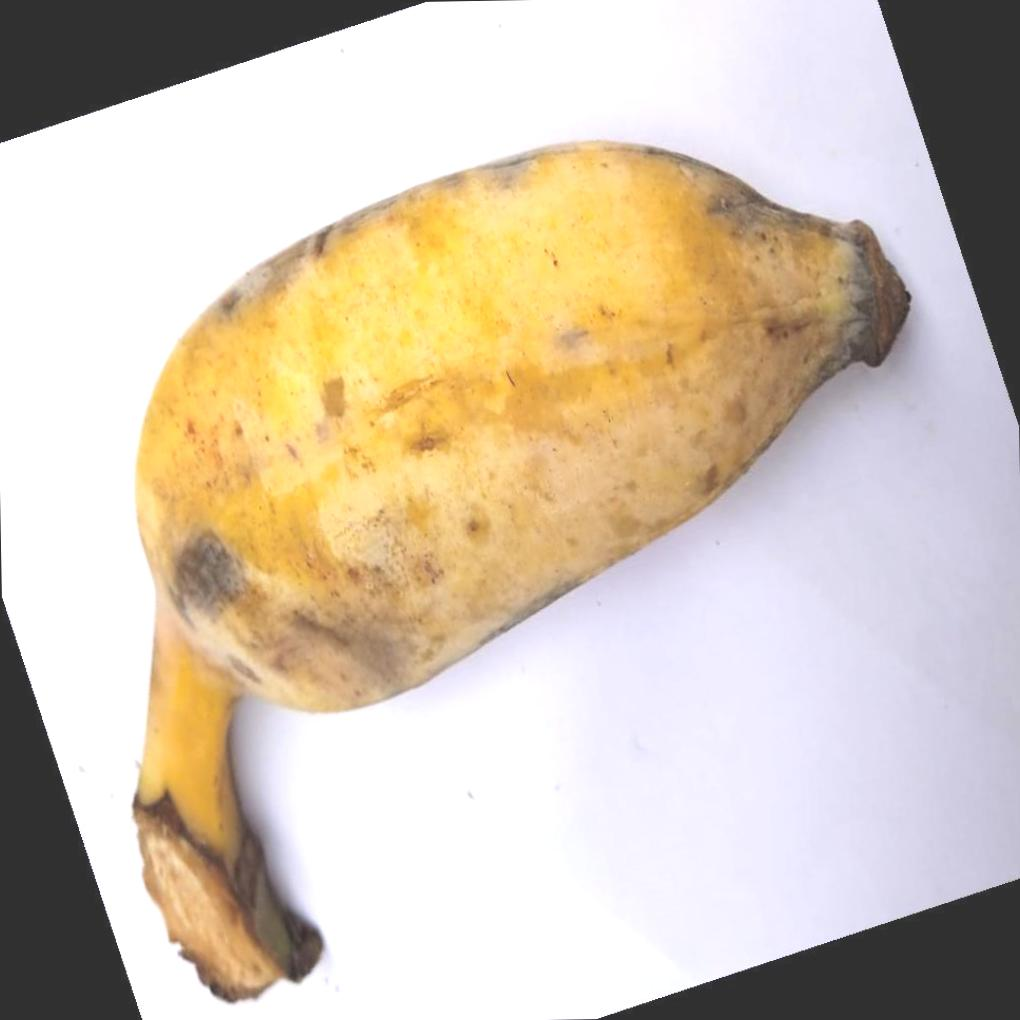Banana Ripe: (114, 123, 911, 981)
